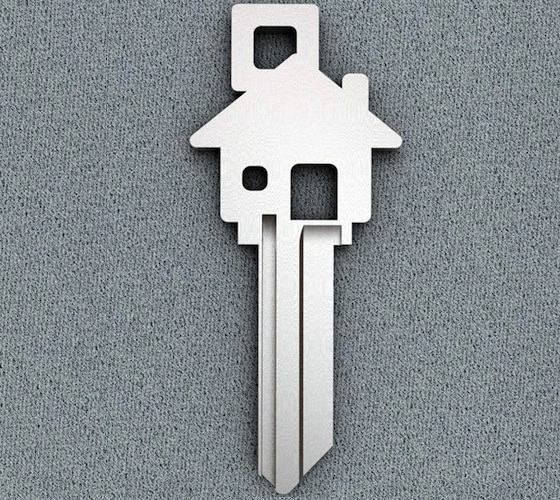key: (188, 54, 404, 496)
